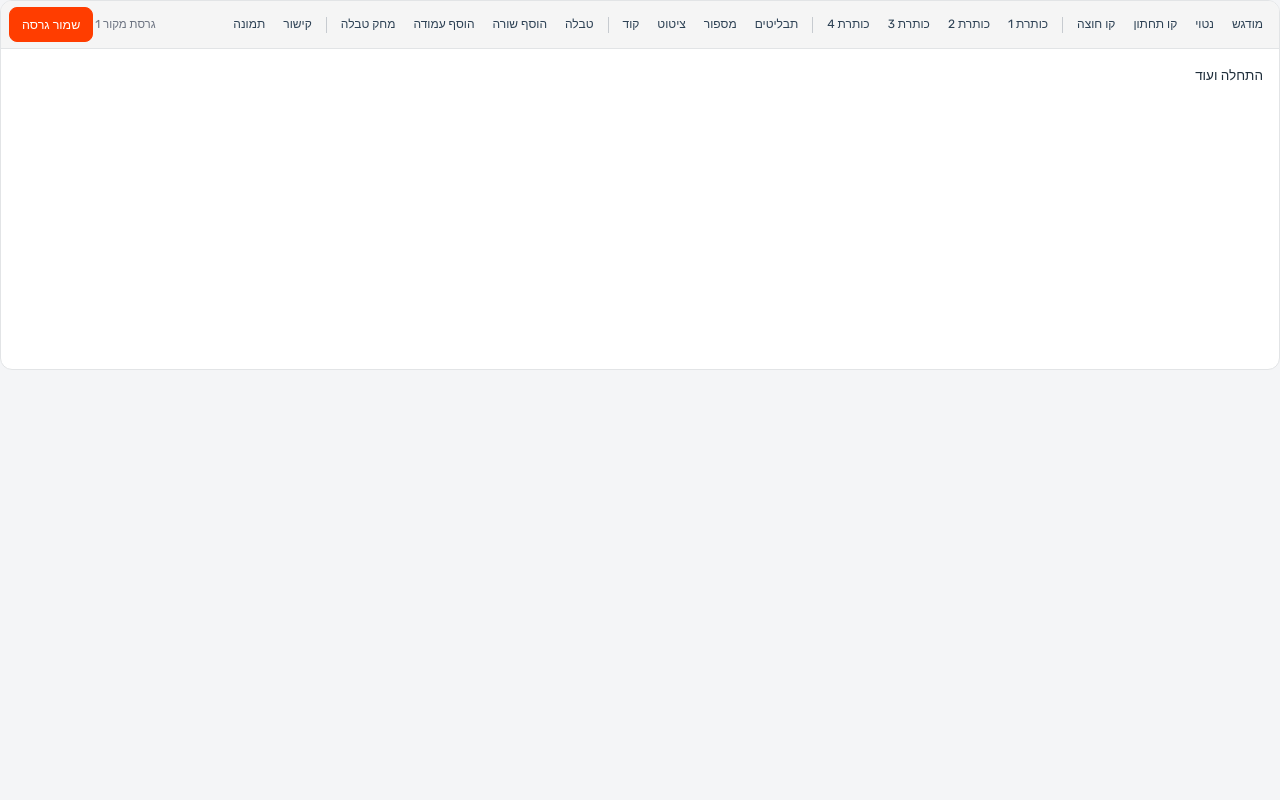
SourceEditor › stops saying the document is unsaved while the version dialog is open
Step 1. Clear the field → (1229, 75), box [1195, 67, 1263, 83]
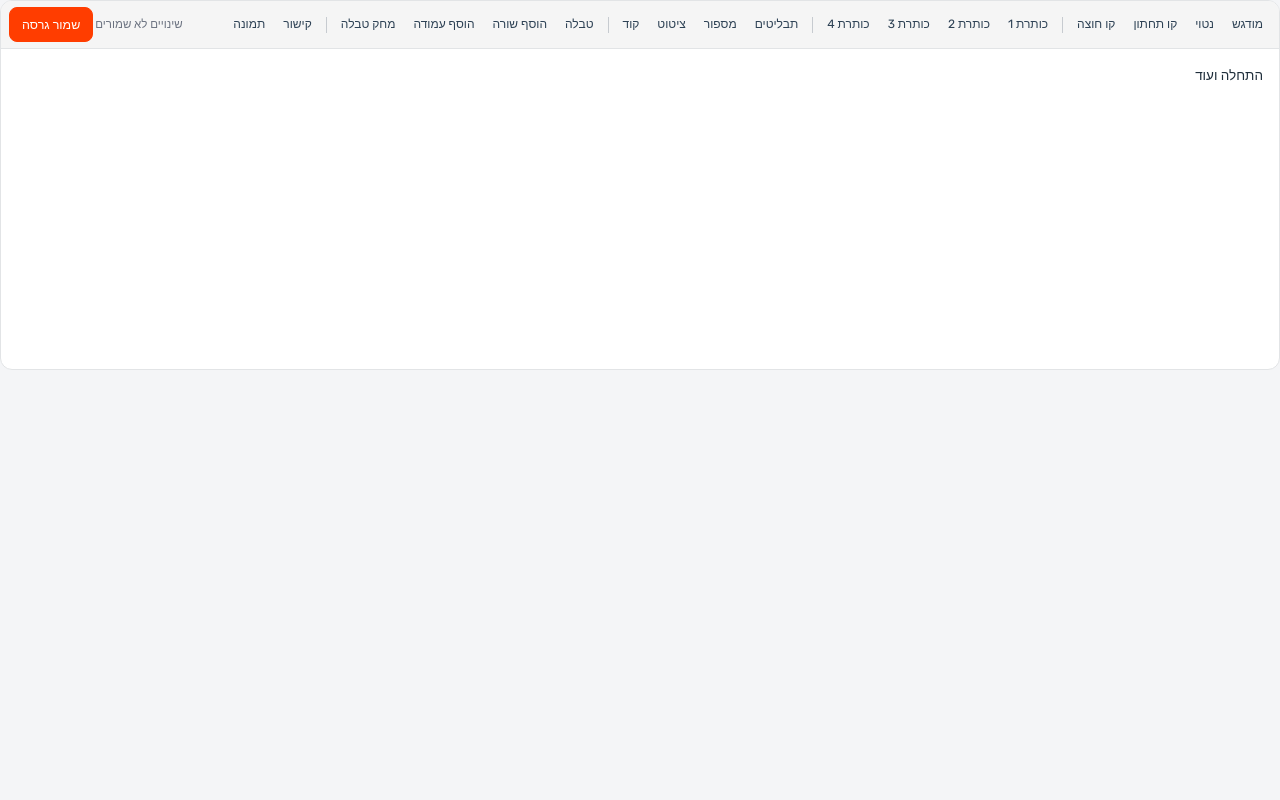
Expected: the text "שינויים לא שמורים" is shown, [95, 16, 183, 34]
Step 2. Click the button "שמור גרסה" → (51, 25), box [9, 7, 93, 42]
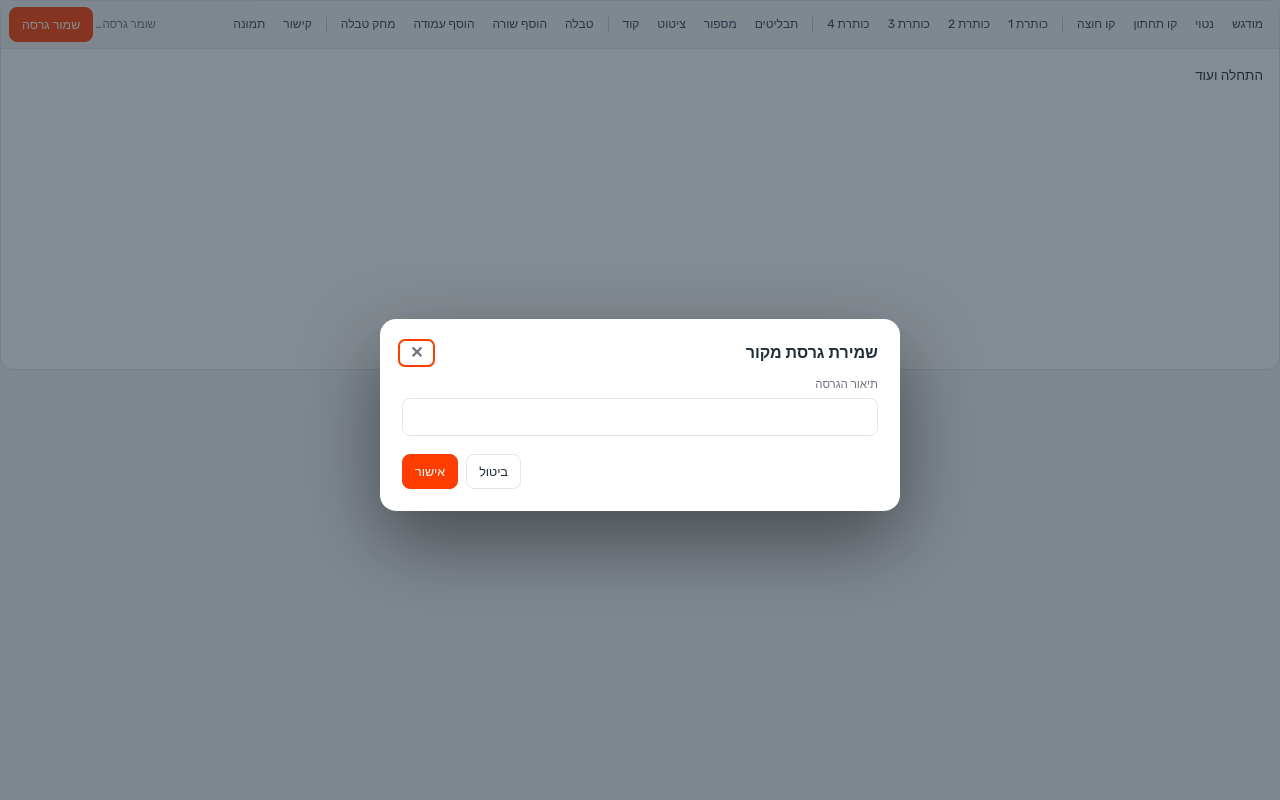
Expected: the field labelled "תיאור הגרסה" is shown, [402, 398, 878, 436]
Expected: the text "שומר גרסה…" is shown, [95, 16, 156, 34]
Expected: the text "שינויים לא שמורים" is gone
# Dismissing the dialog puts the honest "unsaved" state back.
Step 3. Click the button "ביטול" → (494, 471), box [466, 454, 521, 489]
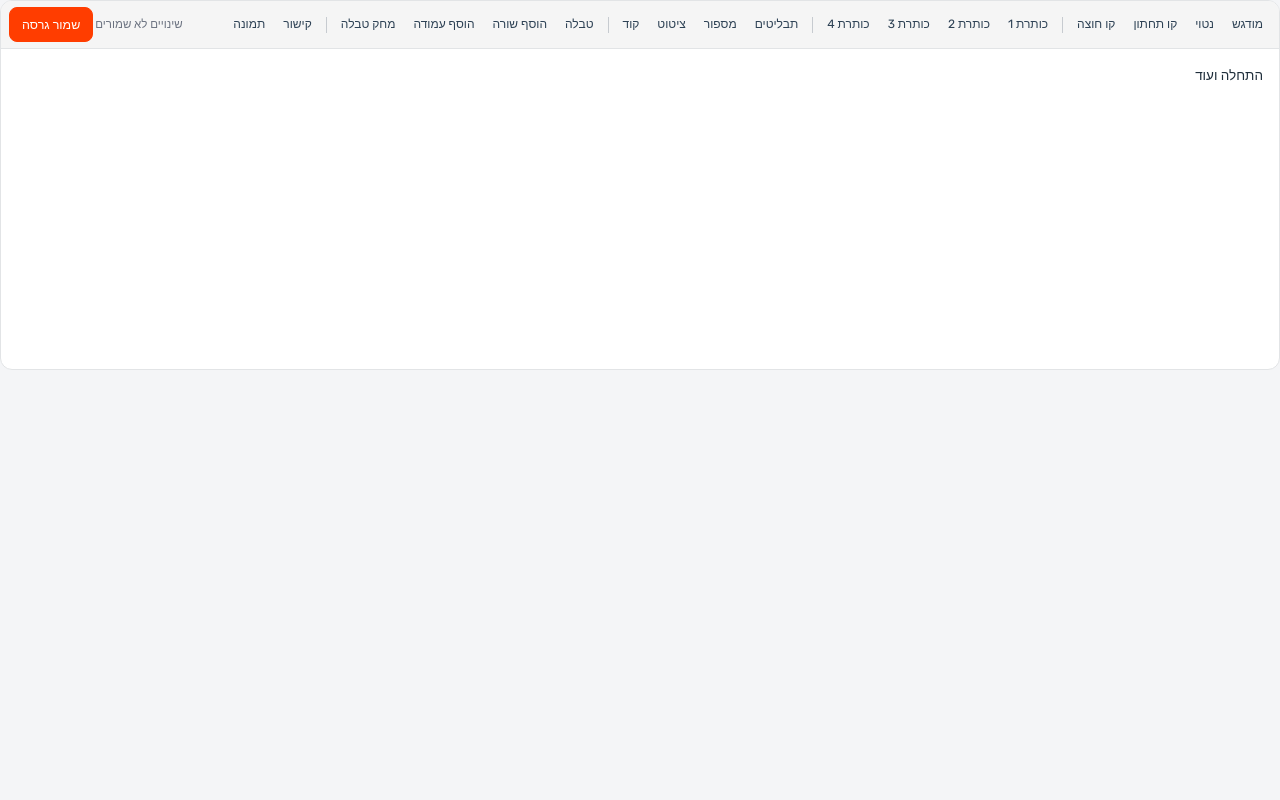
Expected: the text "שינויים לא שמורים" is shown, [95, 16, 183, 34]
